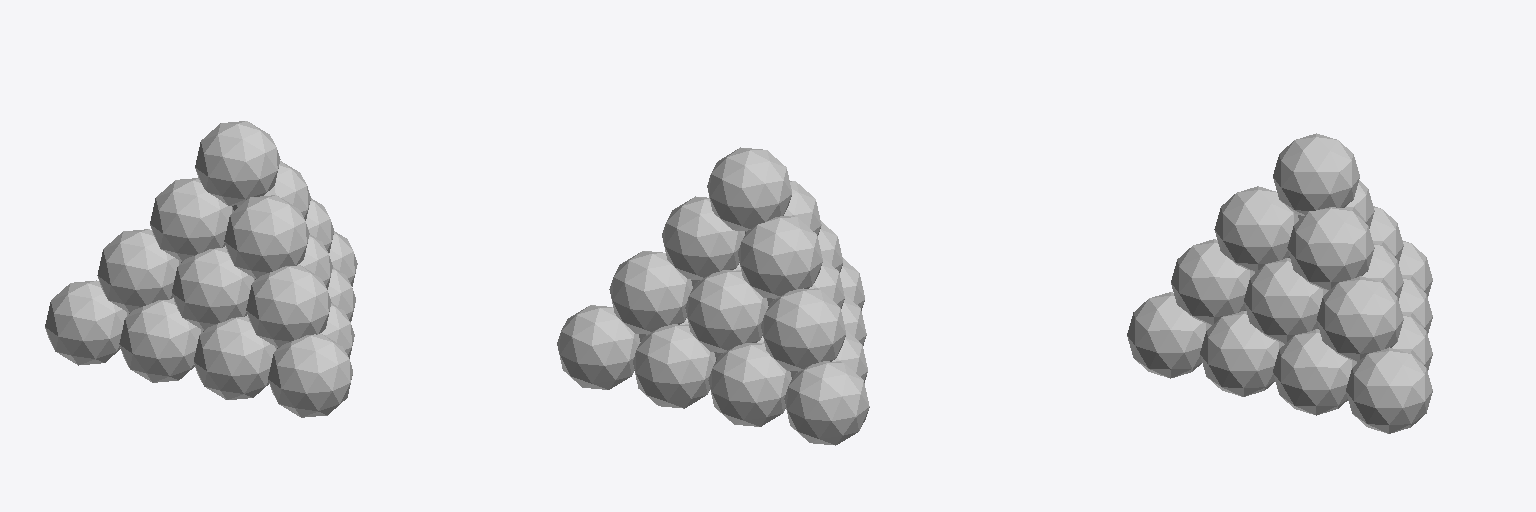
File: snowball_pile.obj
3 renders of one model, left to right at view 1: azimuth 30°, elevation 25°; view 2: azimuth 150°, elevation 25°; view 3: azimuth 270°, elevation 25°, orthographic.
Parts seen in each view (by area): view 1: snowball_pile; view 2: snowball_pile; view 3: snowball_pile.
Boxes of the visible parts, x1,y1,x2,y2 form: snowball_pile: [45, 121, 357, 417]; snowball_pile: [557, 147, 869, 445]; snowball_pile: [1127, 133, 1432, 433].
Bounding box in the file's own units: 1.19 × 0.9 × 1.05.